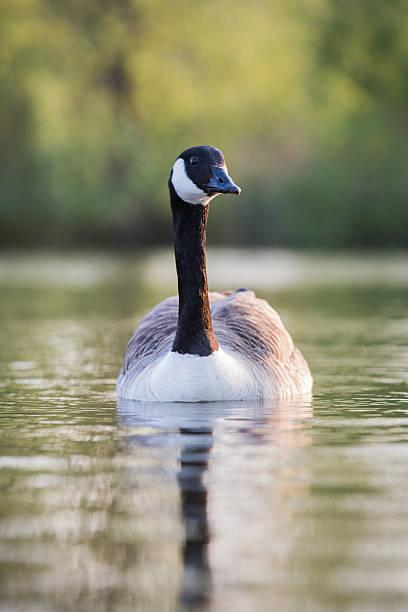Canadian-Goose: (96, 138, 323, 412)
